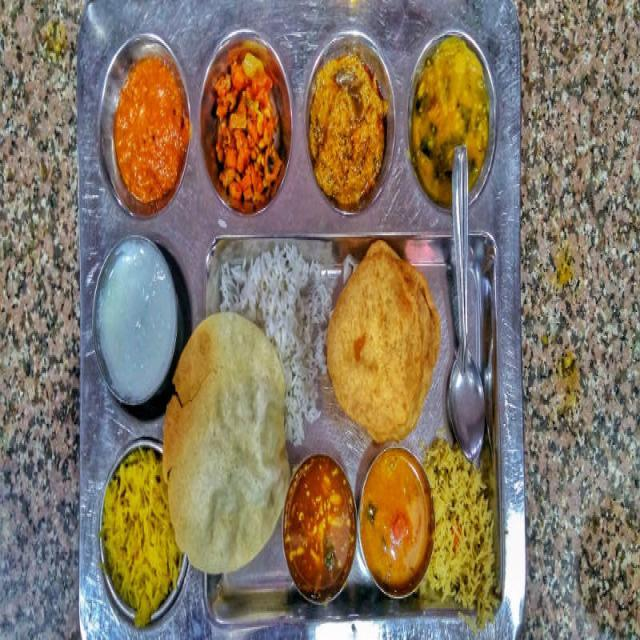curd: (87, 222, 188, 421)
papad: (159, 322, 296, 568)
rice: (421, 430, 507, 624)
roti: (320, 229, 453, 452)
veg: (206, 36, 297, 197)
veg-fry: (404, 35, 500, 201), (355, 441, 440, 602)
